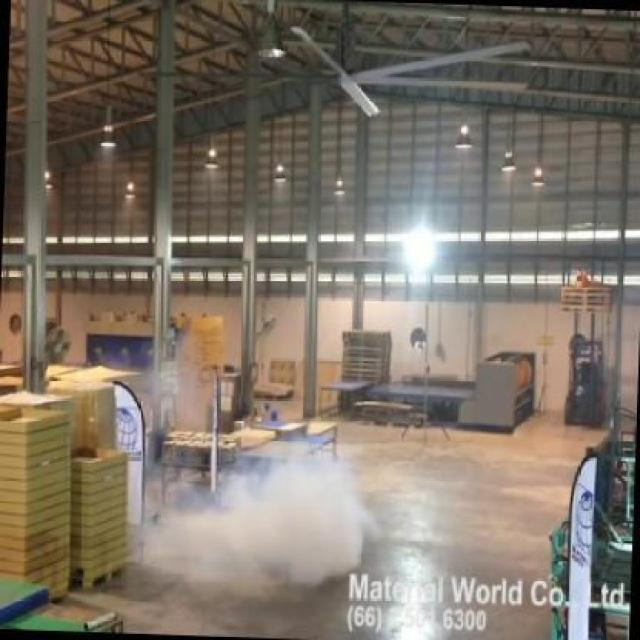fire: (152, 443, 374, 592)
